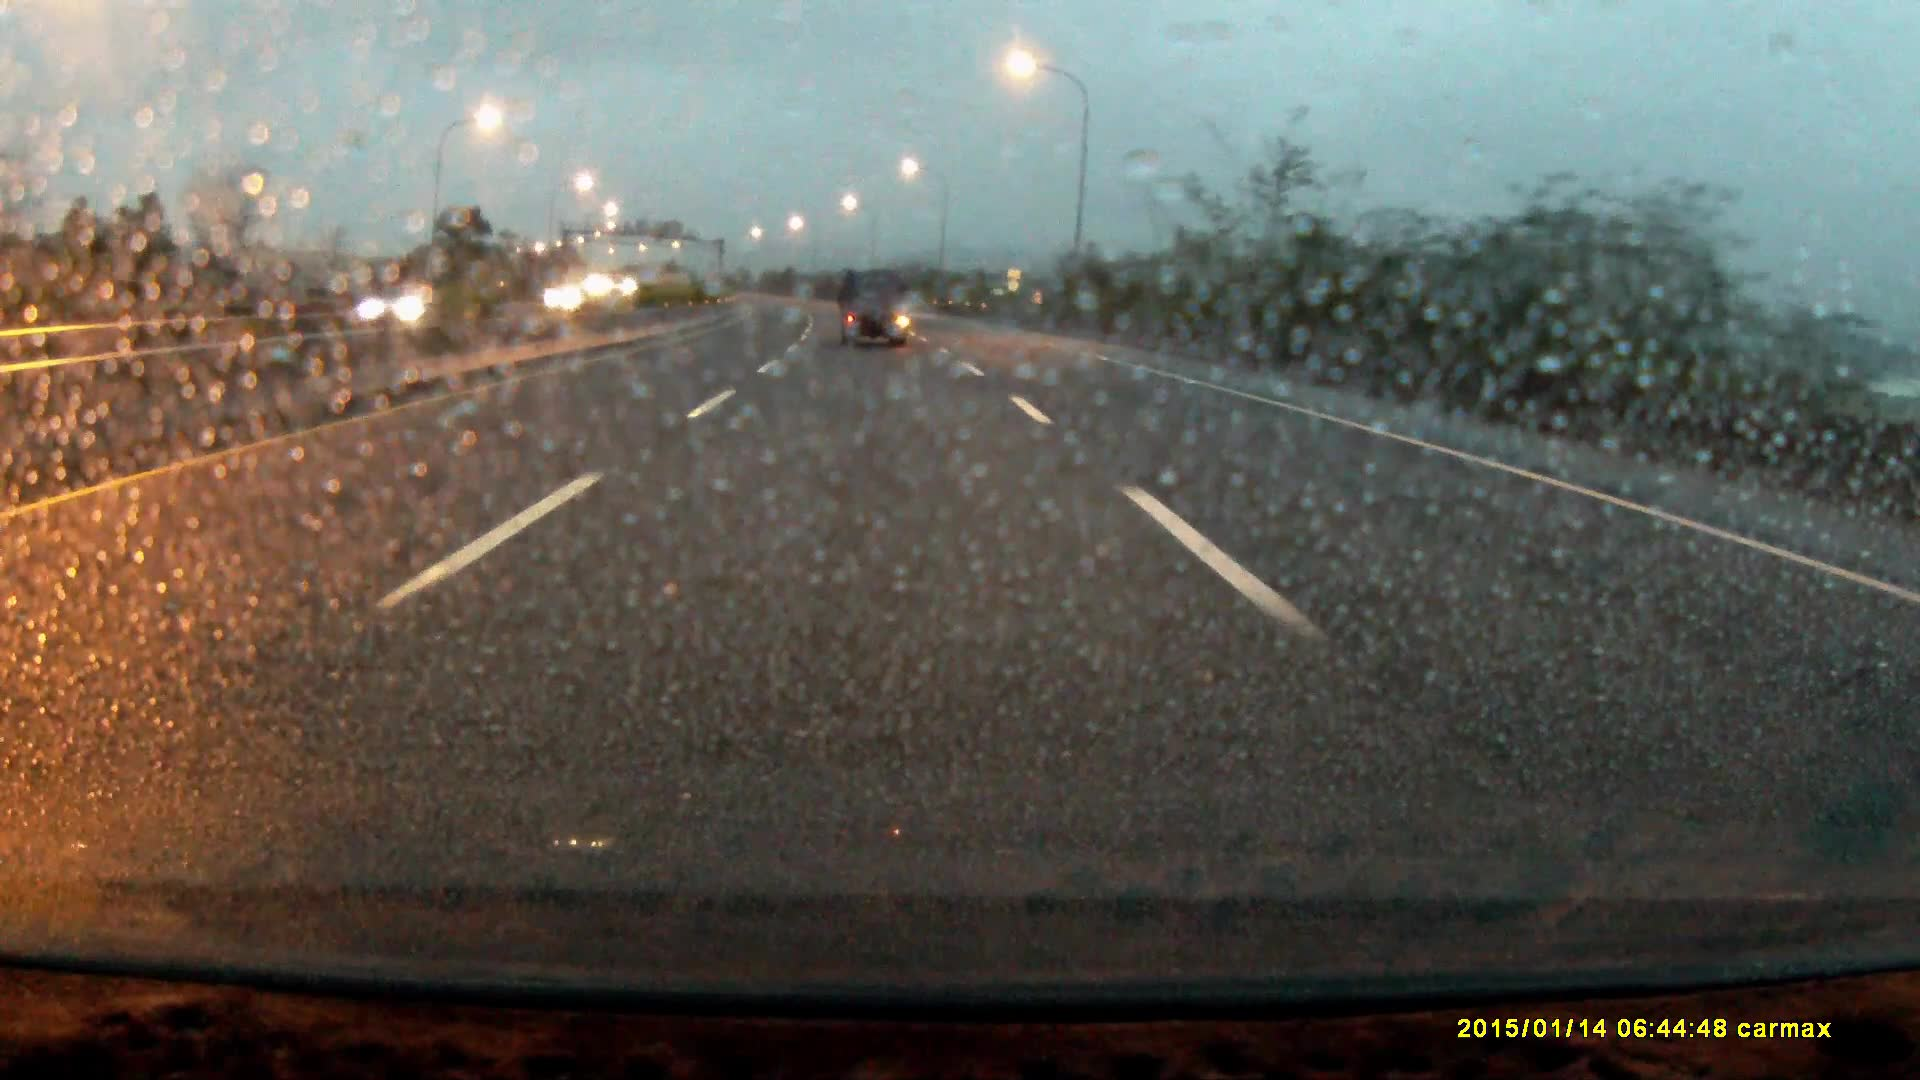vehicle: (837, 276, 910, 352), (342, 289, 451, 335)
